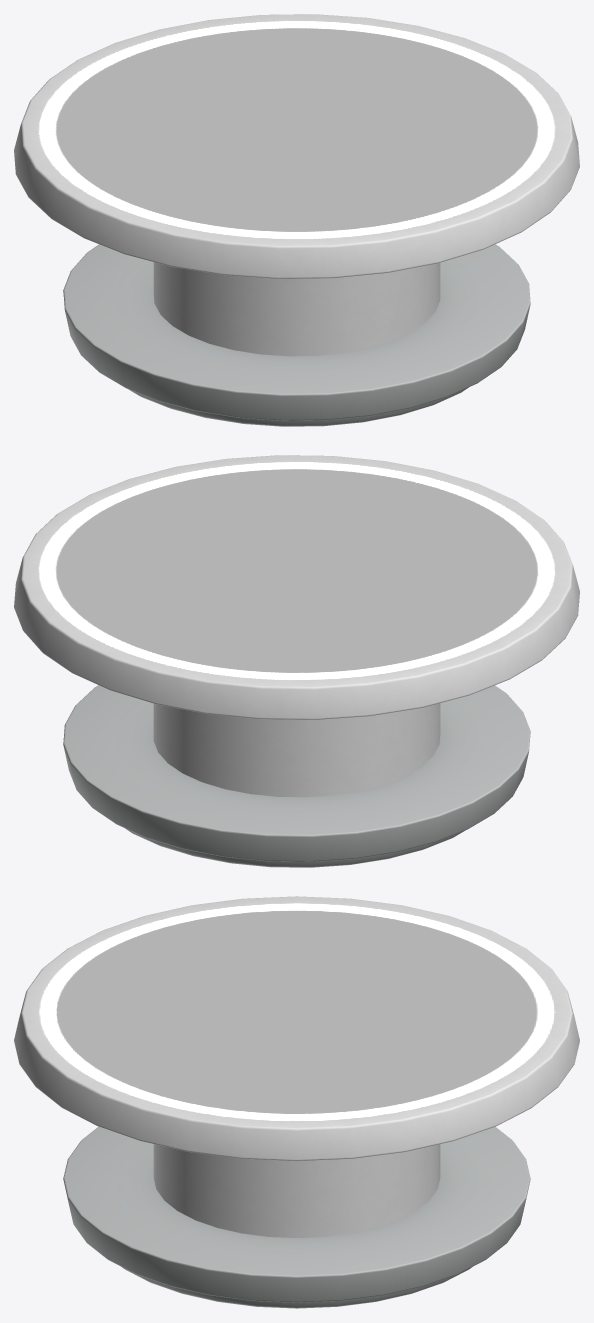
File: CoffeeTable05.FBX
3 views of the same model, one above another, from view 1: azimuth 30°, elevation 25°; view 2: azimuth 150°, elevation 25°; view 3: azimuth 270°, elevation 25° (orthographic).
Visible parts, largest first — view 1: CoffeeTable05; view 2: CoffeeTable05; view 3: CoffeeTable05.
Part boxes in pixels (x1,y1,x2,y2): CoffeeTable05: (14,14,579,426); CoffeeTable05: (14,455,579,867); CoffeeTable05: (14,896,579,1308).
Size of what is drawn, in the model's own units: 1.34 by 0.5496 by 1.34.
